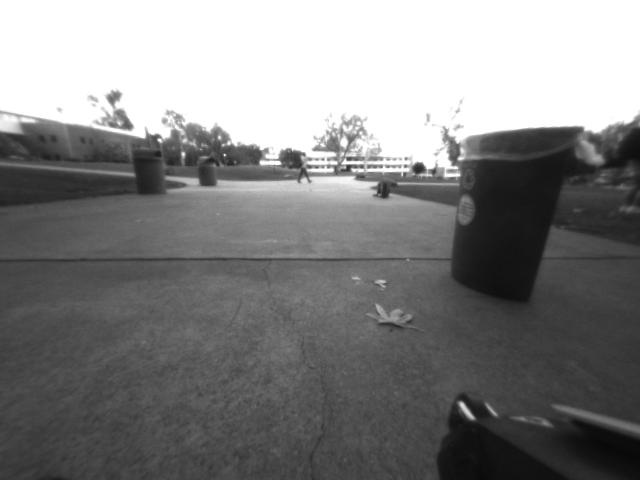trashcan_open: (450, 123, 589, 315)
